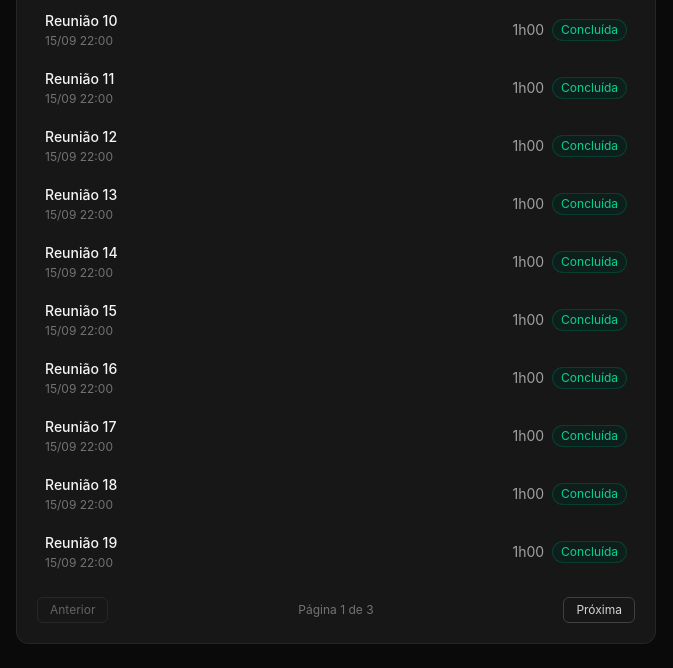
Test: History › mudar um filtro volta para a primeira pagina e envia o filtro
(page scrolled)
Click the button "Próxima" at point(599, 610), box x1=563 y1=597 x2=635 y2=623
(page scrolled)
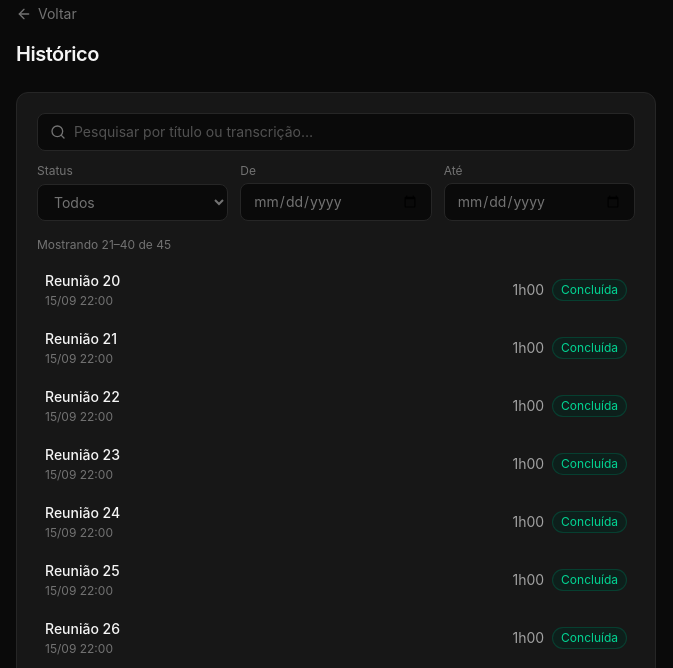
Expected: the text "Reunião 20" is shown, x1=45 y1=271 x2=120 y2=291
Select "Falhou" in the dropdown labelled "Status" at point(133, 202), box x1=37 y1=184 x2=228 y2=221
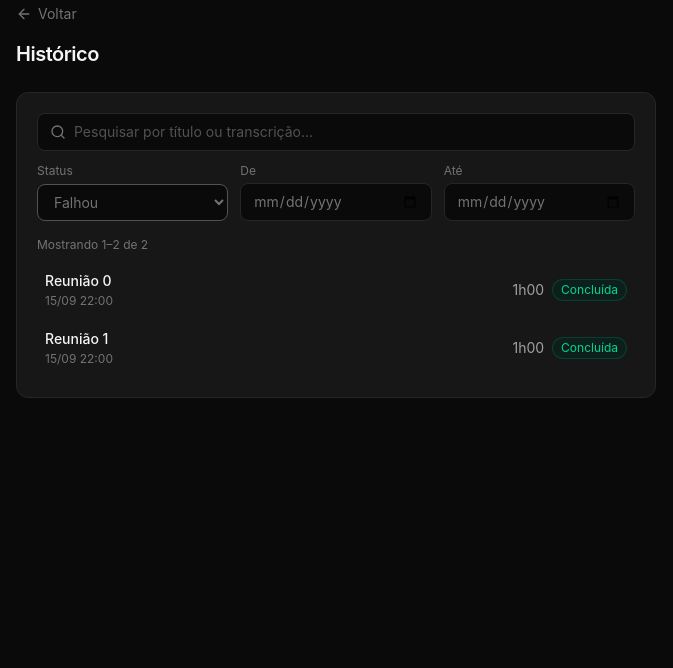
Expected: the text "Mostrando 1–2 de 2" is shown, x1=37 y1=237 x2=148 y2=252
